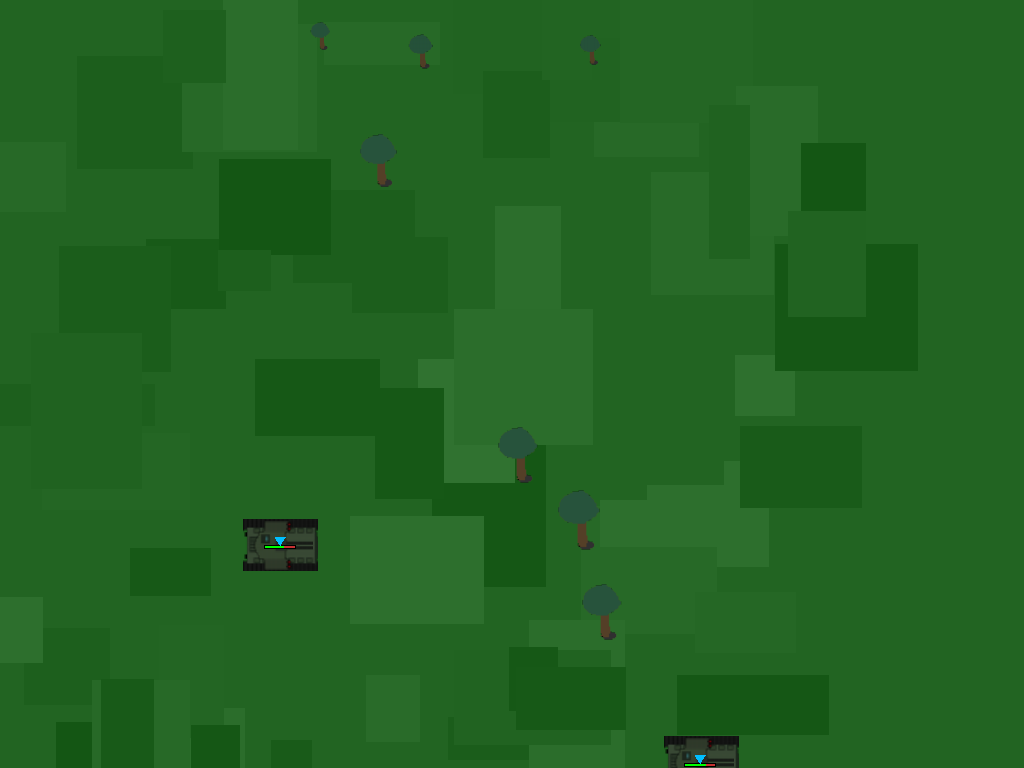TerminatorIFV: (250, 515, 309, 574), (670, 732, 729, 768)
